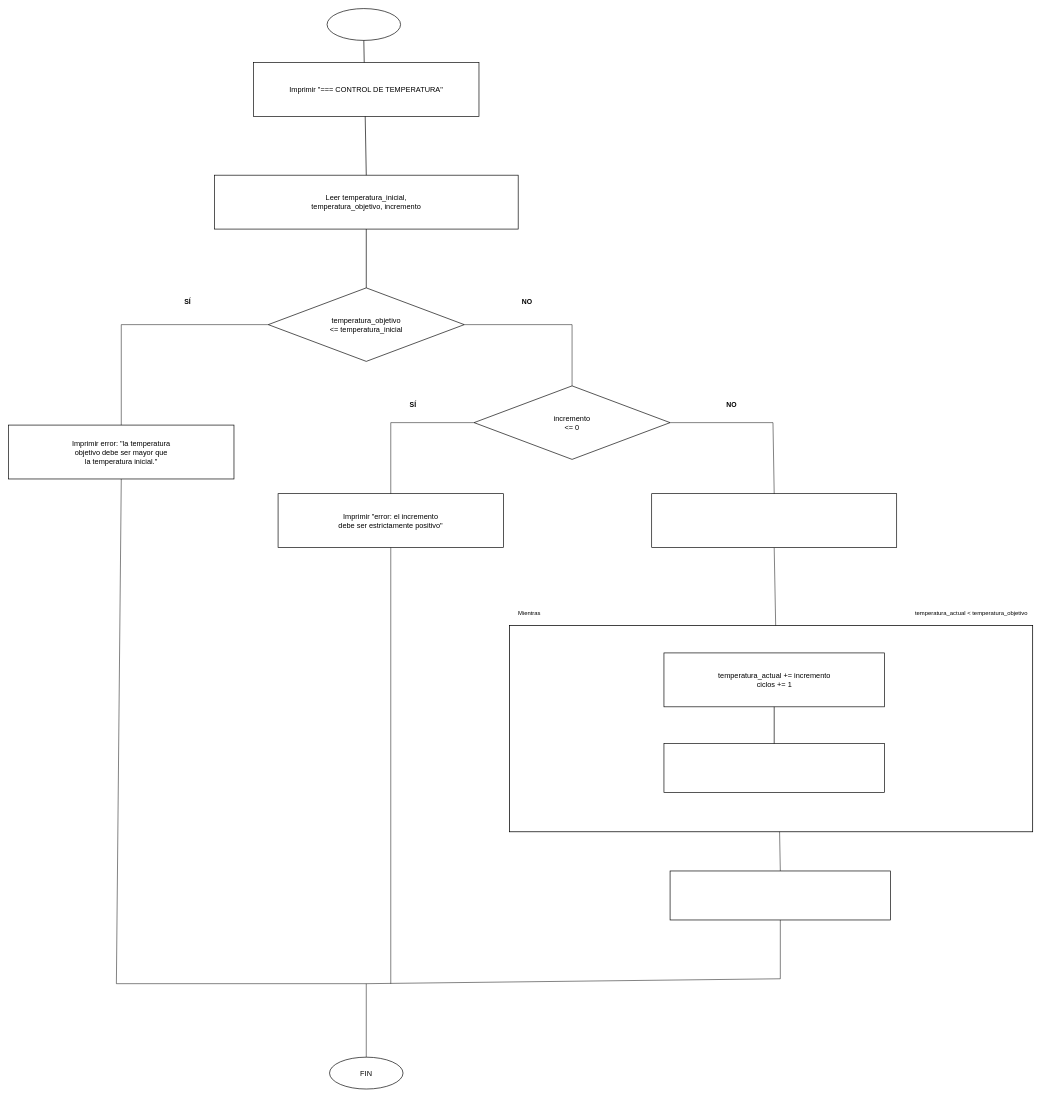
The diagram is 1046 pixels wide and 1098 high, and some of its shapes have lost their labels. Each missing label, with the centre of its shape:
"Imprimir temperatura final y cantidad total de ciclos" goes at (780,895).
"Imprimir temperatura_actual, ciclos" goes at (774,768).
"INICIO" goes at (363,24).
"temperatura_actual = temperatura_inicial ciclos = 0" goes at (774,520).
